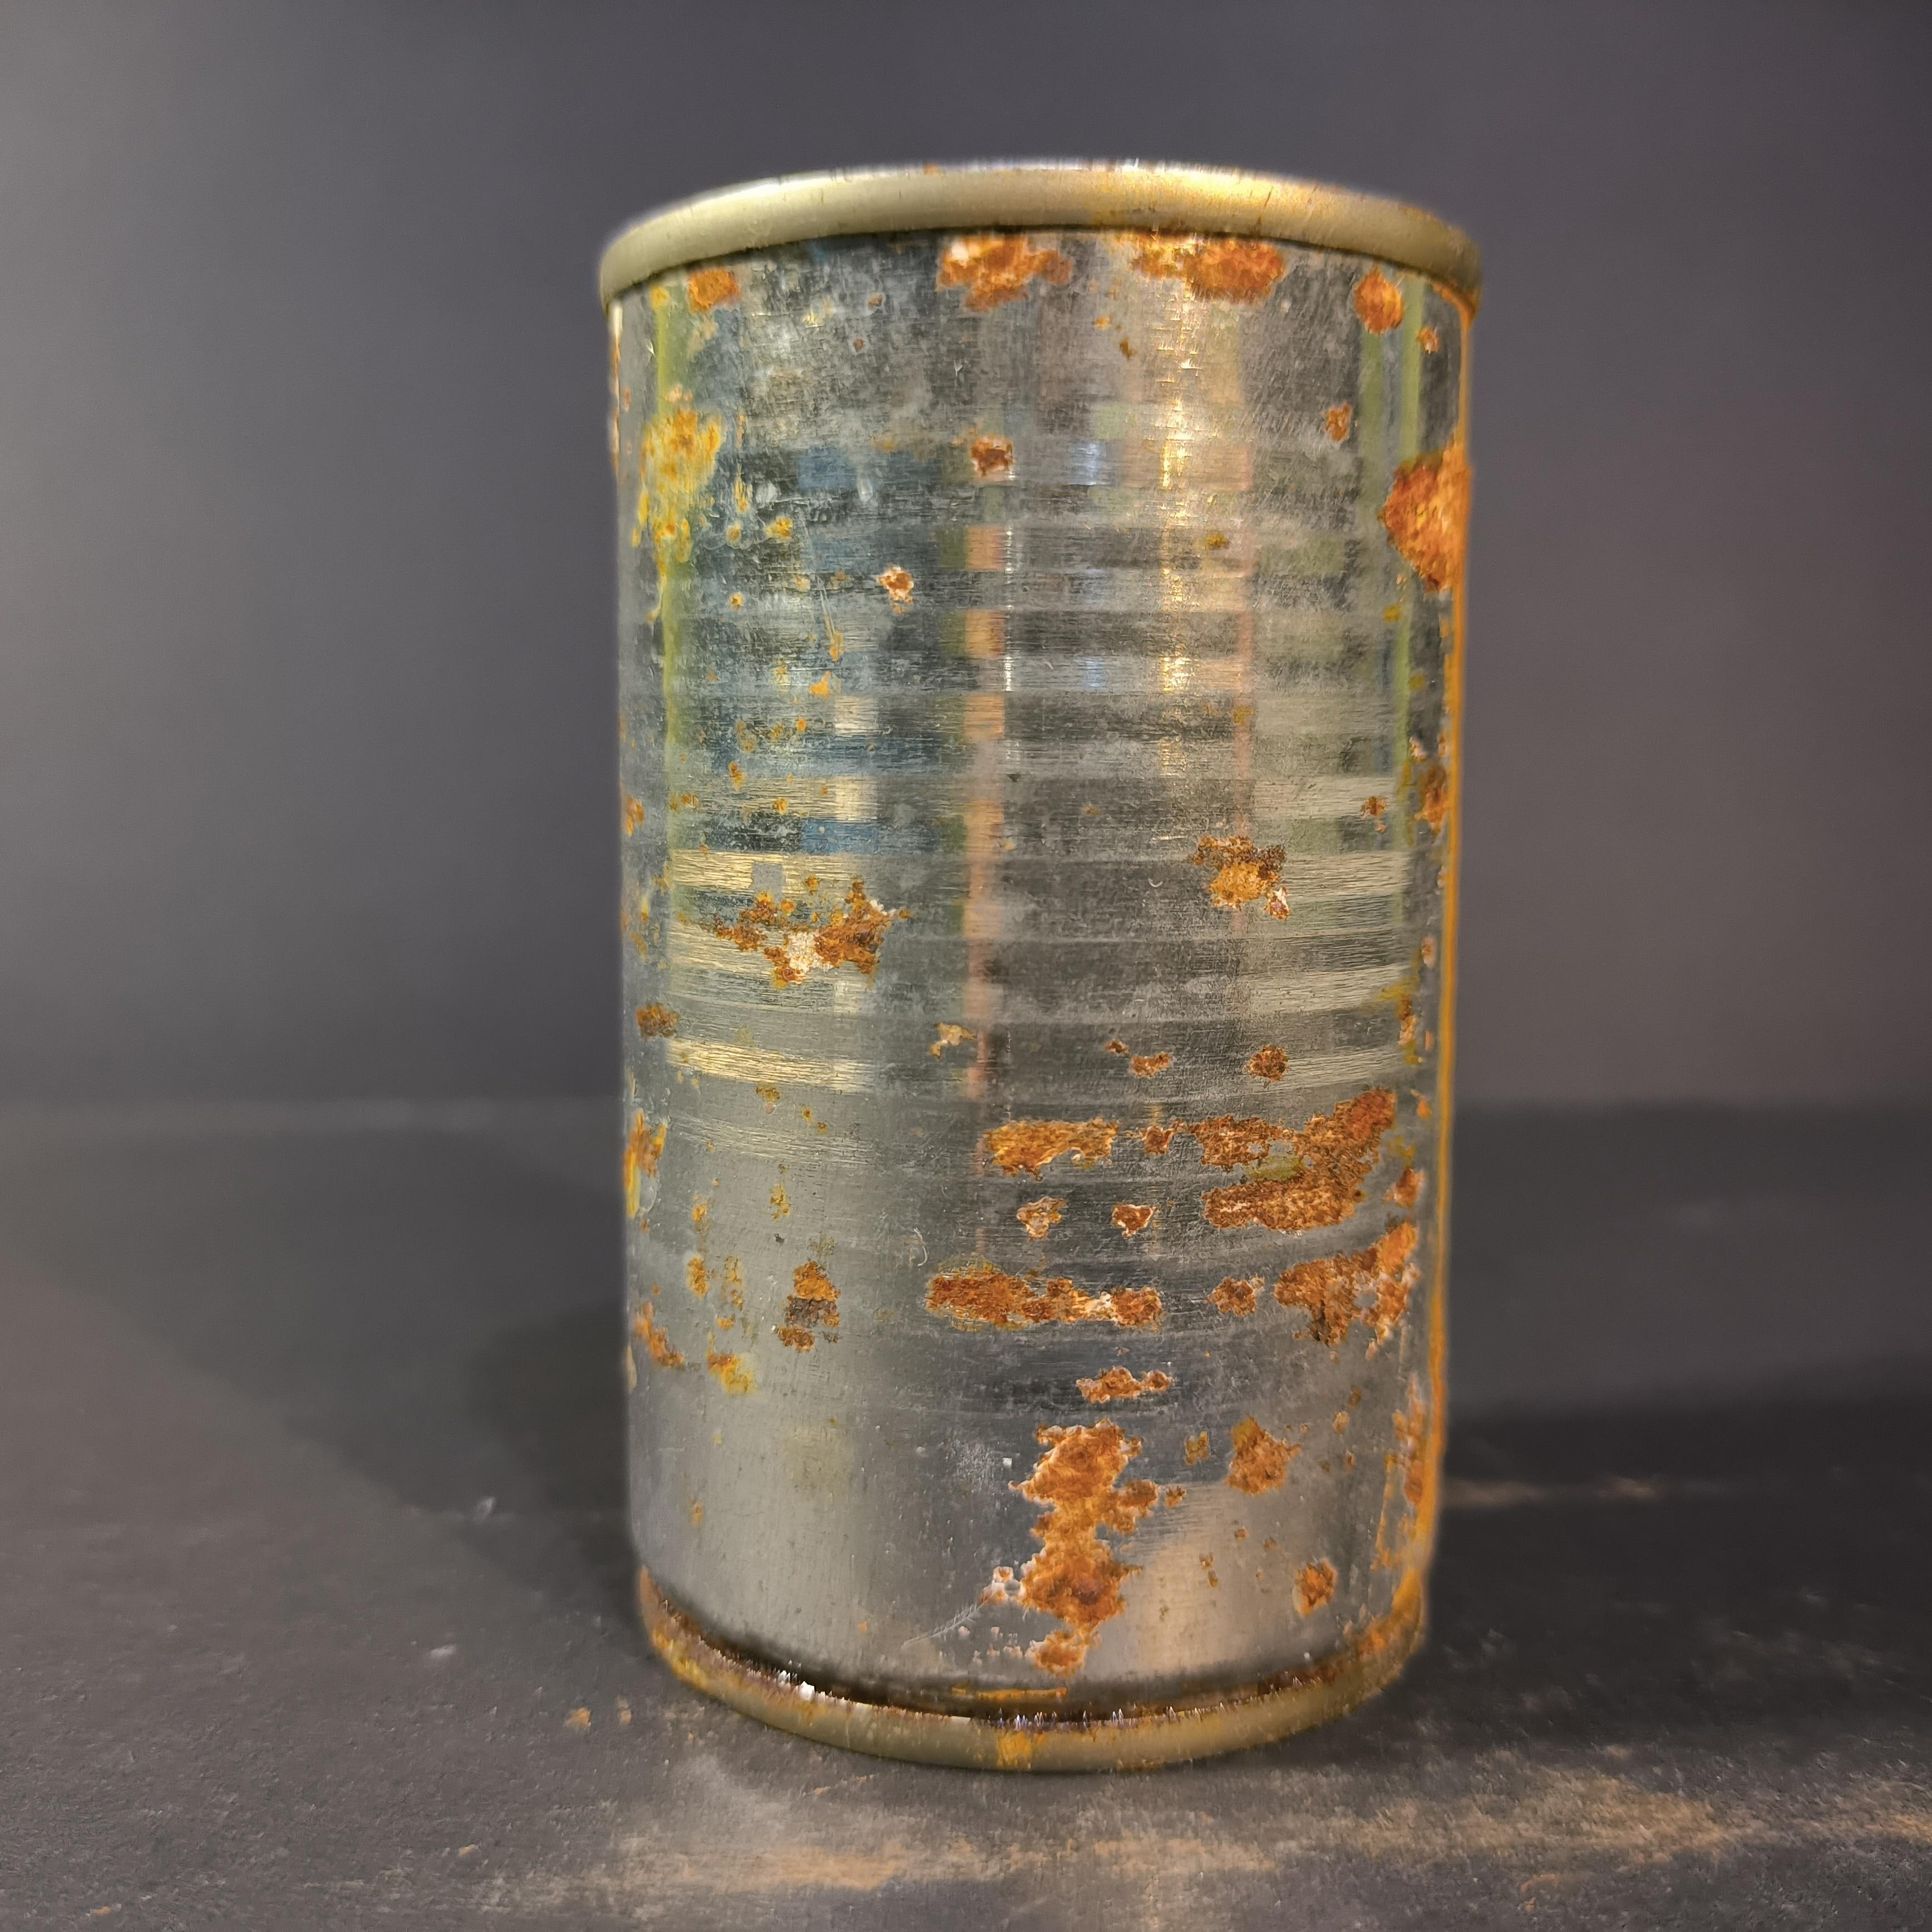Rusted: (577, 131, 1497, 1792)
